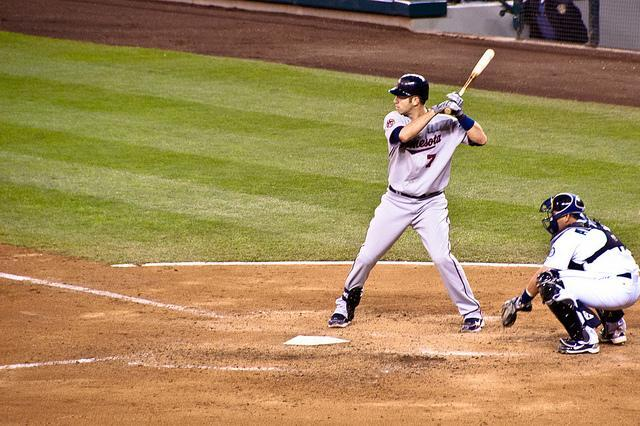bat: (459, 48, 496, 96)
